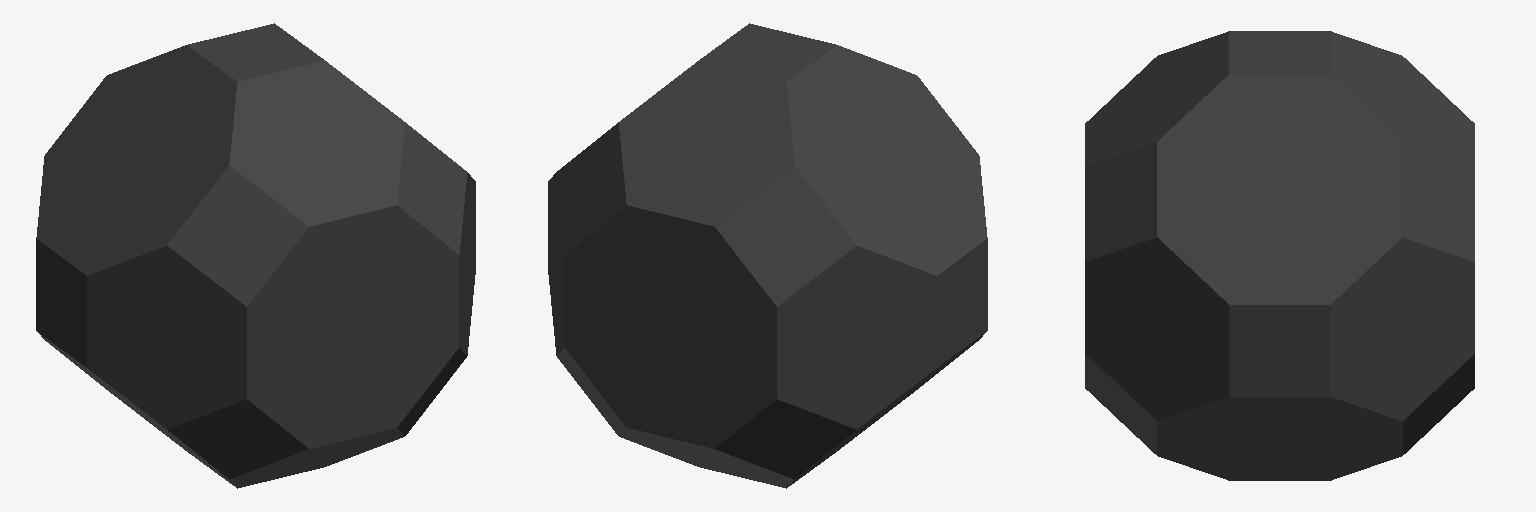
The model's file is catom3D_picking.obj.
3 views of the same model, side by side, from view 1: azimuth 30°, elevation 25°; view 2: azimuth 150°, elevation 25°; view 3: azimuth 270°, elevation 25° (orthographic).
Parts seen in each view (by area): view 1: catom_picking; view 2: catom_picking; view 3: catom_picking.
Boxes of the visible parts, x1=… form: catom_picking: x1=36, y1=23, x2=475, y2=488; catom_picking: x1=548, y1=23, x2=987, y2=488; catom_picking: x1=1085, y1=31, x2=1474, y2=480.
Size of the model in its own units: 10 by 10 by 8.67.